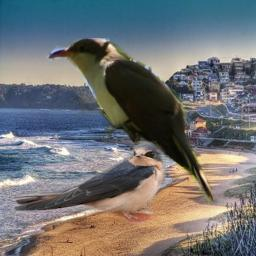Cuckoo: (45, 38, 213, 205)
Swallow: (11, 140, 166, 225)
